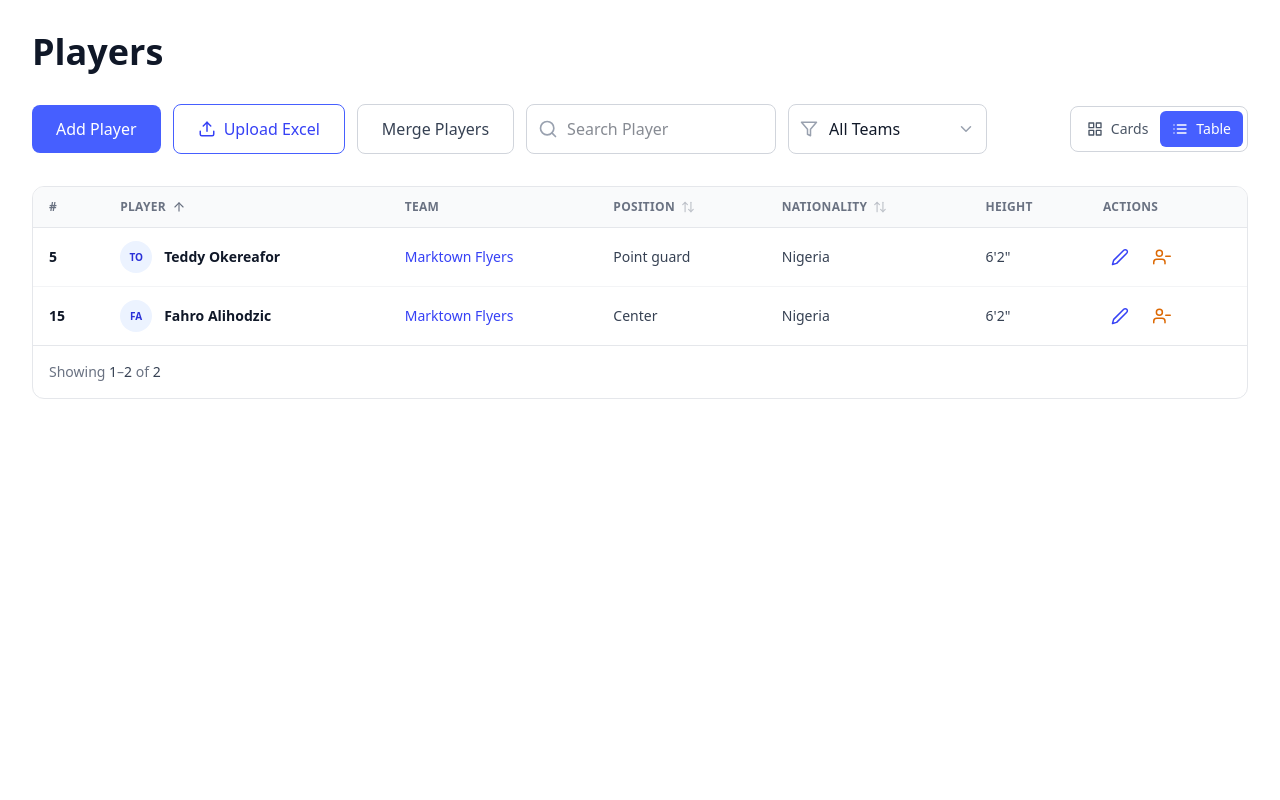
Test: Players: list › opens the player profile when their row is clicked
This screenshot has width=1280, height=800.
What coordinates should you click on to do the following:
click the text "Teddy Okereafor"
I would click on:
 (640, 257)
Its box is left=33, top=228, right=1247, bottom=286.
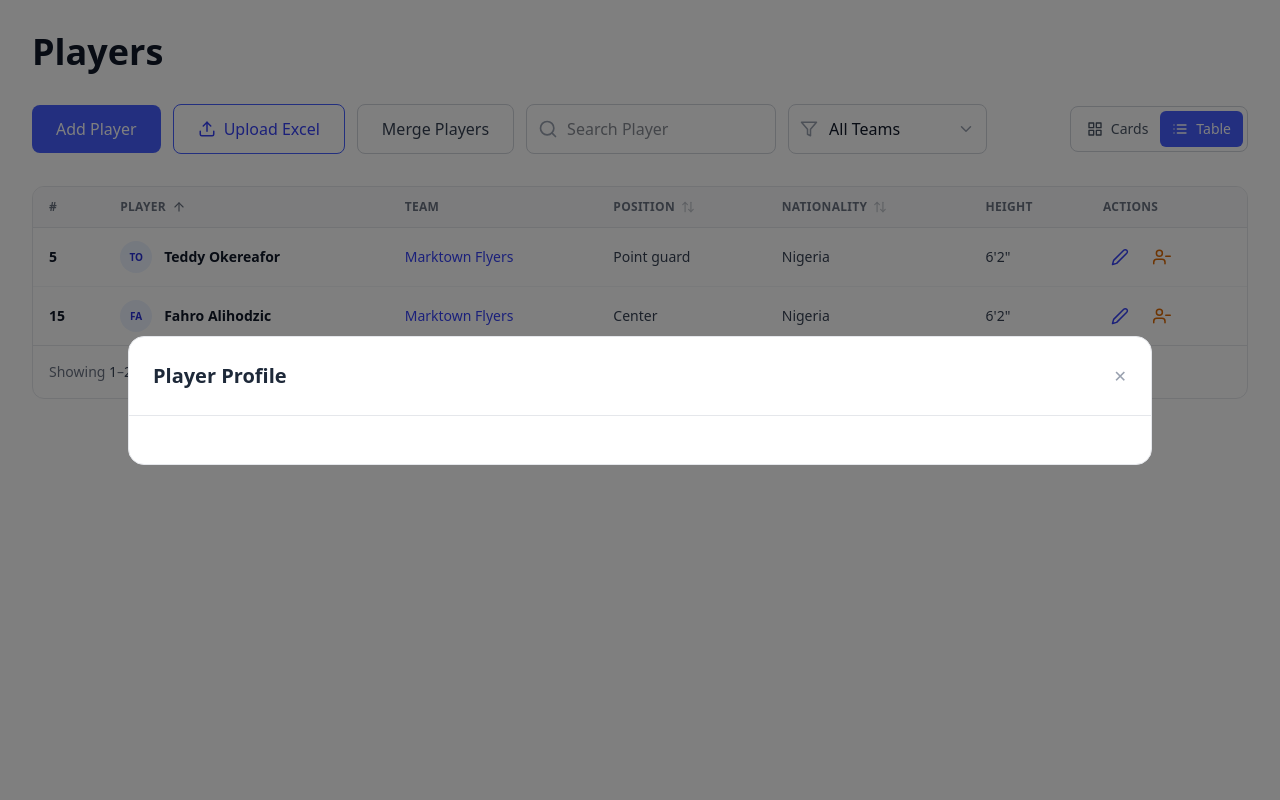
Now the dialog "Player Profile" is shown, box left=128, top=336, right=1152, bottom=464
